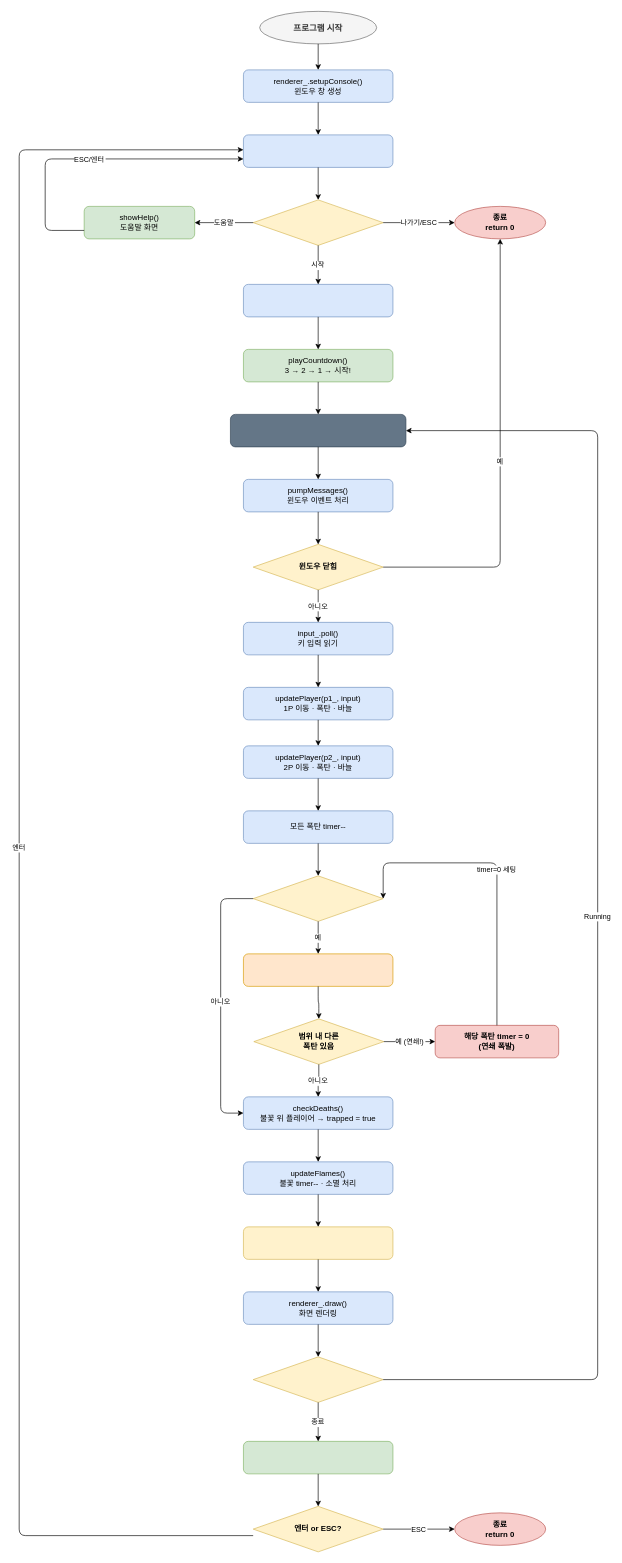
Some shapes in this 622 by 1563 pixel diagram are drawn without their labels. The shapes that lost their labels are listed below. From the top down, each one's box as (x1, y1, x2, y2) in pixels, then its label:
(243, 134, 393, 167): runMenu() 메인 메뉴 표시
(253, 199, 383, 245): 메뉴 선택
(243, 284, 393, 317): reset() 맵·플레이어·폭탄 초기화
(230, 414, 406, 447): 게임 루프 (result == Running)
(253, 875, 383, 921): timer ≤ 0인 폭탄 존재
(243, 953, 393, 986): explodeBomb() 폭발 · 블록 제거 · Flame 생성
(243, 1226, 393, 1259): checkResult() 승패 판정
(253, 1356, 383, 1402): result == Running
(243, 1441, 393, 1474): showResultScreen() 1P승 · 2P승 · 무승부
